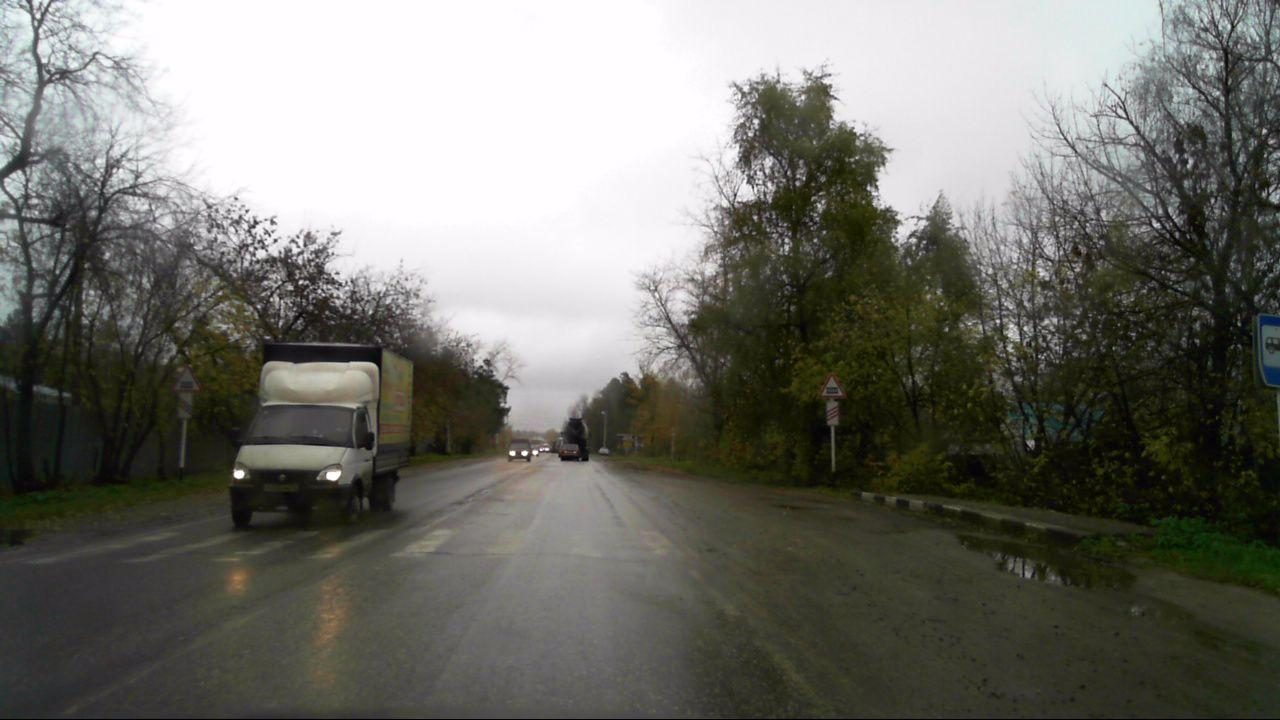road_sign: (816, 371, 848, 399)
